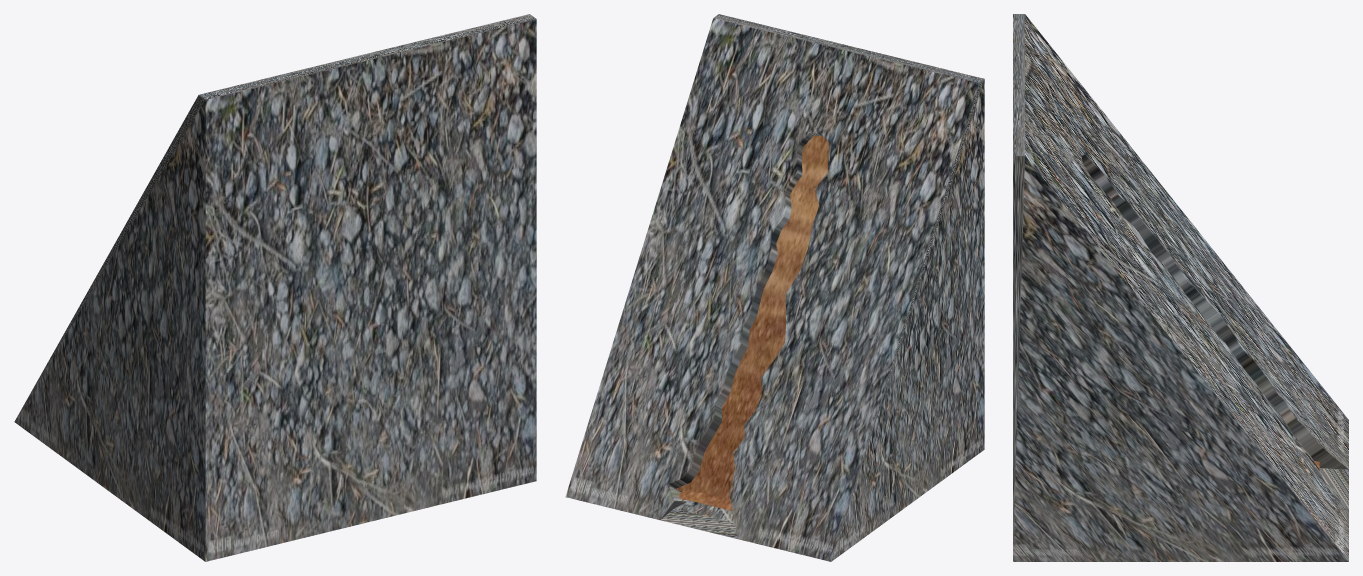
File: 河谷型泥石流.gltf
3 renders of one model, left to right at view 1: azimuth 30°, elevation 25°; view 2: azimuth 150°, elevation 25°; view 3: azimuth 270°, elevation 25°, orthographic. The views are drawn at different scales.
Parts seen in each view (by area): view 1: node_Box001_-66548; view 2: node_Box001_-66548, node_Plane_-66562, node_001_-66550; view 3: node_Box001_-66548.
Boxes of the visible parts, left/top/right/bottom form: node_Box001_-66548: left=14, top=14, right=536, bottom=561; node_Box001_-66548: left=565, top=14, right=984, bottom=561; node_Plane_-66562: left=676, top=135, right=828, bottom=498; node_001_-66550: left=679, top=491, right=732, bottom=510; node_Box001_-66548: left=1013, top=14, right=1348, bottom=561.
Bounding box in the file's own units: 0.762 × 1.02 × 0.762.
